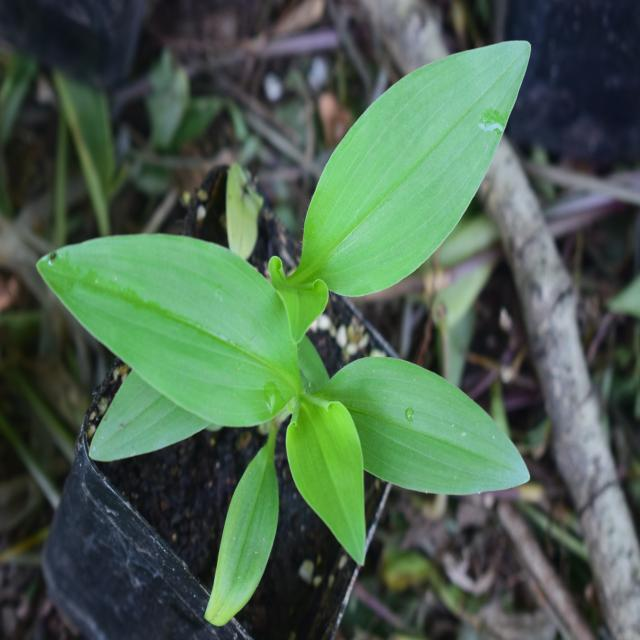Common Dayflower: (32, 210, 532, 566)
